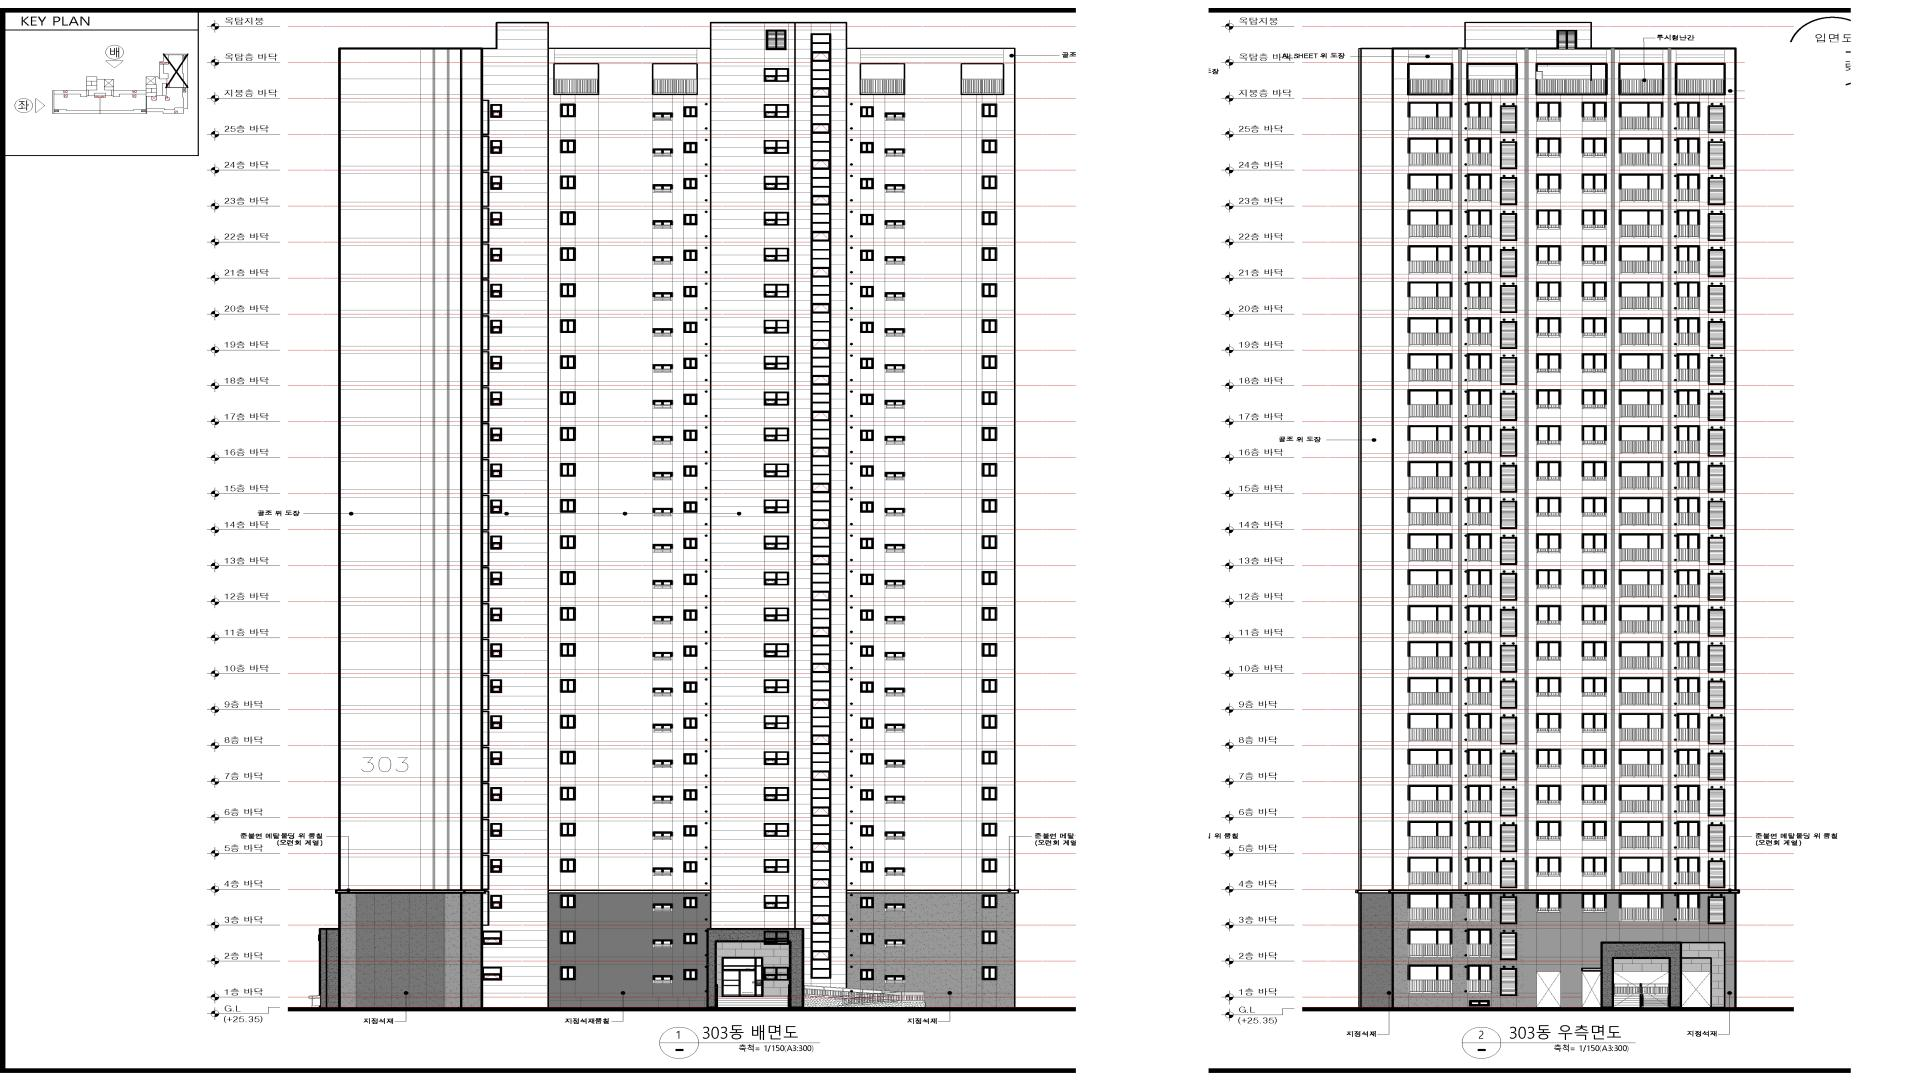door: (1614, 972, 1669, 1007), (721, 957, 764, 997), (1681, 972, 1710, 1007), (1536, 972, 1561, 1007), (1582, 972, 1601, 1007)
wall: (319, 22, 1015, 1011), (1358, 22, 1737, 1011)
window: (1536, 63, 1607, 95), (1466, 63, 1518, 95), (1675, 63, 1725, 95), (651, 63, 698, 95), (860, 63, 906, 95), (1407, 63, 1453, 95), (1618, 63, 1664, 95), (554, 63, 599, 95), (960, 63, 1005, 95), (1619, 281, 1664, 311), (1407, 102, 1453, 131), (1407, 137, 1453, 166), (1407, 173, 1453, 202), (1407, 210, 1453, 239), (1407, 245, 1453, 274), (1407, 281, 1453, 310), (1407, 353, 1453, 382), (1407, 425, 1453, 454), (1407, 497, 1453, 526), (1407, 533, 1453, 562), (1407, 570, 1453, 599), (1407, 641, 1453, 670), (1407, 712, 1453, 741), (1407, 748, 1453, 777), (1407, 856, 1453, 885), (1407, 893, 1453, 922), (1407, 928, 1453, 957), (1407, 964, 1453, 993), (1407, 316, 1452, 345), (1408, 389, 1453, 418), (1407, 605, 1452, 634), (1408, 676, 1453, 705), (1408, 785, 1453, 814), (1408, 820, 1453, 849), (1619, 857, 1664, 886), (1619, 820, 1664, 849), (1619, 785, 1664, 814), (1618, 676, 1663, 705), (1618, 605, 1663, 634), (1618, 497, 1663, 526), (1618, 425, 1663, 454), (1619, 389, 1664, 418), (1619, 316, 1664, 345), (1618, 245, 1663, 274), (1618, 210, 1663, 239), (1619, 173, 1664, 202), (1407, 462, 1453, 489), (1619, 893, 1663, 922), (1619, 749, 1663, 778), (1619, 713, 1663, 742), (1619, 641, 1663, 670), (1619, 570, 1663, 599), (1619, 533, 1663, 562), (1619, 460, 1663, 489), (1619, 353, 1663, 382), (1619, 137, 1663, 166), (1619, 102, 1663, 131), (811, 924, 831, 978), (811, 169, 831, 206), (811, 313, 831, 349), (811, 456, 831, 493), (811, 564, 831, 601), (811, 708, 831, 745), (811, 887, 831, 924), (1466, 102, 1491, 131), (1466, 137, 1491, 166), (1466, 173, 1491, 202), (1466, 210, 1491, 239), (1466, 245, 1491, 274), (1466, 281, 1491, 310), (1466, 316, 1491, 345), (1466, 353, 1491, 382), (1466, 389, 1491, 418), (1468, 425, 1493, 454), (1466, 497, 1491, 526), (1466, 533, 1491, 562), (1466, 568, 1491, 597), (1468, 641, 1493, 670), (1466, 676, 1491, 705), (1466, 749, 1491, 778), (1466, 785, 1491, 814), (1468, 820, 1493, 849), (1466, 893, 1491, 922), (1466, 928, 1491, 957), (1466, 964, 1491, 993), (811, 61, 831, 96), (811, 98, 831, 133), (811, 133, 831, 169), (811, 206, 831, 241), (811, 241, 831, 277), (811, 277, 831, 313), (811, 349, 831, 385), (811, 385, 831, 421), (811, 421, 831, 456), (811, 493, 831, 529), (811, 529, 831, 564), (811, 601, 831, 637), (811, 637, 831, 673), (811, 673, 831, 708), (811, 745, 831, 781), (811, 781, 831, 816), (811, 852, 831, 887), (1466, 462, 1491, 489), (1466, 605, 1491, 633), (1466, 713, 1491, 741), (1466, 857, 1491, 885), (1676, 856, 1700, 885), (1676, 820, 1700, 849), (1676, 785, 1700, 814), (1676, 676, 1700, 705), (1676, 641, 1700, 670), (1676, 605, 1700, 634), (1676, 533, 1700, 562), (1676, 462, 1700, 491), (1676, 425, 1700, 454), (1676, 389, 1700, 418), (1676, 353, 1700, 382), (1676, 245, 1700, 274), (1676, 173, 1700, 202), (1676, 137, 1700, 166), (1676, 102, 1700, 131), (811, 816, 831, 851), (1676, 570, 1700, 597), (1676, 318, 1700, 345), (1676, 210, 1700, 237), (1677, 893, 1700, 922), (1677, 749, 1700, 778), (1677, 712, 1700, 741), (1677, 497, 1700, 526), (1677, 281, 1700, 310), (1499, 893, 1518, 924), (1499, 713, 1518, 745), (1499, 641, 1518, 673), (1499, 605, 1518, 637), (1499, 389, 1518, 421), (1499, 245, 1518, 277), (1499, 102, 1518, 133), (1708, 281, 1726, 313), (1499, 965, 1518, 996), (1499, 930, 1518, 960), (1499, 786, 1518, 816), (1499, 678, 1518, 708), (1499, 534, 1518, 564), (1499, 174, 1518, 204), (1499, 138, 1518, 169), (811, 33, 831, 61), (1499, 820, 1516, 852), (1499, 749, 1516, 781), (1499, 570, 1516, 601), (1499, 497, 1516, 529), (1501, 462, 1518, 493), (1499, 425, 1516, 456), (1499, 353, 1516, 385), (1499, 318, 1516, 349), (1499, 210, 1516, 241), (1708, 102, 1725, 133), (1708, 174, 1725, 206), (1708, 210, 1725, 241), (1708, 245, 1725, 277), (1708, 318, 1725, 349), (1709, 353, 1726, 385), (1708, 389, 1725, 421), (1708, 497, 1725, 529), (1708, 570, 1725, 601), (1708, 605, 1725, 637), (1708, 641, 1725, 673), (1708, 678, 1725, 709), (1708, 713, 1725, 745), (1708, 749, 1725, 781), (1708, 785, 1725, 816), (1708, 857, 1725, 889), (1708, 893, 1725, 924), (1581, 102, 1607, 121), (1581, 137, 1607, 157), (1581, 173, 1607, 193), (1581, 210, 1607, 229), (1581, 245, 1607, 265), (1581, 281, 1607, 301), (1581, 353, 1607, 373), (1581, 389, 1607, 409), (1581, 425, 1607, 444), (1581, 460, 1607, 480), (1581, 497, 1607, 517), (1581, 570, 1607, 589), (1581, 676, 1607, 696), (1581, 749, 1607, 769), (1581, 857, 1607, 877), (1499, 857, 1516, 887), (1499, 282, 1516, 313), (1708, 138, 1725, 169), (1708, 426, 1725, 456), (1709, 462, 1726, 492), (1708, 534, 1725, 564), (1708, 822, 1725, 852), (1581, 318, 1606, 338), (1581, 533, 1606, 553), (1581, 605, 1606, 625), (1581, 641, 1606, 661), (1581, 713, 1606, 733), (1581, 785, 1606, 804), (1581, 820, 1606, 840), (1581, 893, 1606, 913), (1536, 893, 1561, 913), (1536, 857, 1561, 877), (1536, 822, 1561, 841), (1536, 785, 1561, 804), (1536, 749, 1561, 769), (1536, 712, 1561, 732), (1536, 676, 1561, 696), (1536, 641, 1561, 661), (1536, 605, 1561, 625), (1536, 570, 1561, 589), (1536, 533, 1561, 553), (1536, 497, 1561, 517), (1536, 462, 1561, 481), (1536, 425, 1561, 444), (1536, 389, 1561, 409), (1536, 353, 1561, 373), (1536, 318, 1561, 338), (1536, 281, 1561, 301), (1536, 245, 1561, 265), (1536, 210, 1561, 229), (1536, 173, 1561, 193), (1536, 137, 1561, 157), (1536, 102, 1561, 121), (766, 29, 786, 50), (1556, 30, 1577, 50), (764, 571, 790, 585), (764, 284, 790, 298), (764, 211, 790, 225), (764, 175, 790, 190), (764, 967, 789, 981), (764, 858, 789, 873), (764, 823, 789, 837), (764, 715, 789, 729), (764, 679, 789, 694), (764, 644, 789, 658), (764, 535, 789, 550), (764, 427, 789, 442), (764, 319, 789, 334), (764, 140, 789, 154), (764, 104, 789, 119), (764, 608, 790, 621), (764, 931, 789, 944), (764, 895, 789, 909), (764, 787, 789, 800), (764, 752, 789, 765), (764, 392, 789, 405), (764, 356, 789, 369), (764, 248, 789, 261), (764, 69, 789, 82), (764, 500, 789, 513), (764, 464, 789, 477), (484, 967, 502, 981), (559, 894, 576, 909), (559, 715, 576, 729), (559, 642, 576, 657), (559, 607, 576, 621), (559, 463, 576, 477), (559, 211, 576, 225), (559, 103, 576, 117), (484, 931, 502, 944), (560, 930, 576, 944), (560, 858, 576, 873), (560, 823, 576, 837), (560, 750, 576, 765), (560, 679, 576, 694), (560, 571, 576, 585), (560, 498, 576, 513), (560, 355, 576, 369), (560, 319, 576, 334), (560, 247, 576, 261), (560, 175, 576, 190), (981, 103, 997, 117), (981, 211, 997, 225), (981, 247, 997, 261), (981, 319, 997, 334), (981, 355, 997, 369), (981, 498, 997, 513), (981, 571, 997, 585), (981, 607, 997, 621), (981, 750, 997, 765), (981, 858, 997, 873), (981, 894, 997, 909), (559, 392, 576, 405), (981, 967, 997, 980), (560, 967, 576, 980), (560, 787, 576, 800), (560, 535, 576, 549), (560, 427, 576, 440), (560, 284, 576, 297), (560, 140, 576, 153), (981, 140, 997, 153), (981, 175, 997, 189), (981, 284, 997, 297), (981, 392, 997, 405), (981, 427, 997, 440), (981, 463, 997, 476), (981, 535, 997, 549), (981, 644, 997, 657), (981, 679, 997, 692), (981, 715, 997, 728), (981, 787, 997, 800), (981, 823, 997, 836), (981, 931, 997, 944), (651, 400, 673, 409), (651, 543, 673, 553), (653, 651, 674, 661), (651, 687, 673, 696), (651, 795, 673, 804), (653, 831, 674, 840), (653, 975, 674, 984), (885, 975, 906, 984), (884, 435, 905, 444), (885, 291, 906, 301), (885, 148, 906, 157), (885, 795, 906, 804), (884, 651, 905, 661), (653, 256, 673, 265), (653, 939, 673, 948), (885, 939, 905, 948), (489, 787, 502, 800), (491, 284, 502, 298), (491, 319, 502, 334), (491, 427, 502, 442), (491, 535, 502, 550), (491, 571, 502, 585), (491, 679, 502, 694), (491, 823, 502, 837), (683, 249, 698, 261), (683, 322, 698, 334), (683, 501, 698, 513), (683, 574, 698, 585), (683, 609, 698, 621), (683, 645, 698, 657), (683, 717, 698, 729), (683, 753, 698, 765), (860, 717, 874, 729), (491, 175, 502, 190), (683, 357, 698, 369), (683, 393, 698, 405), (683, 897, 698, 909), (860, 861, 874, 873), (860, 789, 874, 800), (860, 753, 874, 765), (860, 609, 874, 621), (860, 574, 874, 585), (860, 538, 874, 550), (860, 501, 874, 513), (860, 393, 874, 405), (860, 357, 874, 369), (860, 249, 874, 261), (860, 214, 874, 225), (860, 178, 874, 190), (491, 140, 502, 154), (683, 178, 698, 190), (683, 214, 698, 225), (683, 861, 698, 873), (860, 932, 874, 944), (860, 897, 874, 909), (653, 149, 674, 157), (653, 185, 674, 193), (651, 220, 673, 228), (653, 293, 674, 301), (653, 364, 674, 372), (653, 436, 674, 444), (651, 580, 673, 588), (651, 616, 673, 624), (651, 724, 673, 732), (651, 760, 673, 767), (651, 903, 673, 911), (885, 616, 906, 624), (885, 580, 906, 588), (885, 545, 906, 553), (885, 508, 906, 516), (885, 472, 906, 480), (884, 364, 905, 372), (885, 328, 906, 336), (885, 112, 906, 120), (885, 903, 906, 911), (884, 868, 905, 876), (885, 832, 906, 840), (884, 760, 905, 767), (885, 688, 906, 696), (491, 356, 502, 369), (491, 392, 502, 405), (491, 464, 502, 477), (491, 500, 502, 513), (491, 608, 502, 621), (491, 644, 502, 657), (491, 716, 502, 729), (491, 752, 502, 765), (491, 860, 502, 873), (491, 895, 502, 909), (491, 212, 502, 225), (491, 248, 502, 261), (653, 112, 673, 120), (653, 328, 673, 336), (653, 472, 673, 480), (653, 508, 673, 516), (653, 868, 673, 876), (885, 400, 905, 407), (885, 256, 905, 264), (885, 220, 905, 228), (885, 185, 905, 193), (491, 104, 502, 117), (885, 724, 905, 732), (683, 107, 698, 117), (683, 286, 698, 297), (683, 465, 698, 476), (683, 538, 698, 549), (683, 682, 698, 692), (683, 934, 698, 944), (683, 969, 698, 980), (860, 682, 874, 692), (683, 142, 698, 153), (683, 430, 698, 440), (860, 825, 874, 836), (860, 646, 874, 657), (860, 465, 874, 476), (860, 430, 874, 440), (860, 322, 874, 332), (860, 142, 874, 153), (860, 107, 874, 117), (683, 790, 698, 800), (683, 825, 698, 836), (860, 969, 874, 980), (860, 286, 873, 297)
